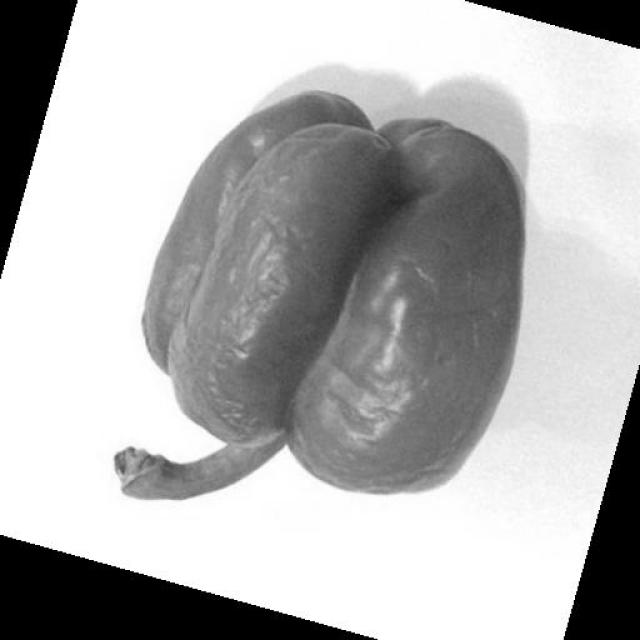Fresh_Capsicum: (148, 111, 480, 522)
